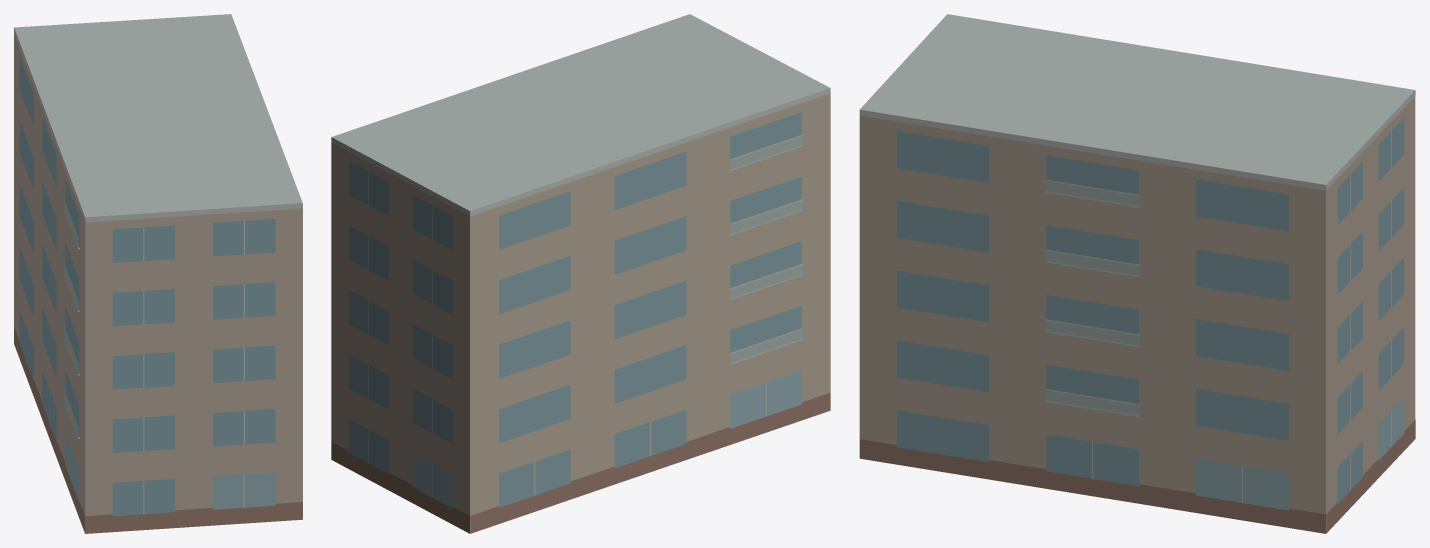
The model's file is survey-upis-32878833.glb.
3 renders of one model, left to right at view 1: azimuth 30°, elevation 25°; view 2: azimuth 150°, elevation 25°; view 3: azimuth 270°, elevation 25°, orthographic. The views are drawn at different scales.
Visible parts, largest first — view 1: survey-upis-32878833.tmp; view 2: survey-upis-32878833.tmp; view 3: survey-upis-32878833.tmp.
Boxes of the visible parts, x1,y1,x2,y2 form: survey-upis-32878833.tmp: (14, 14, 302, 533); survey-upis-32878833.tmp: (331, 14, 830, 533); survey-upis-32878833.tmp: (859, 14, 1415, 533).
Bounding box in the file's own units: 15.46 × 14.7 × 21.24.
